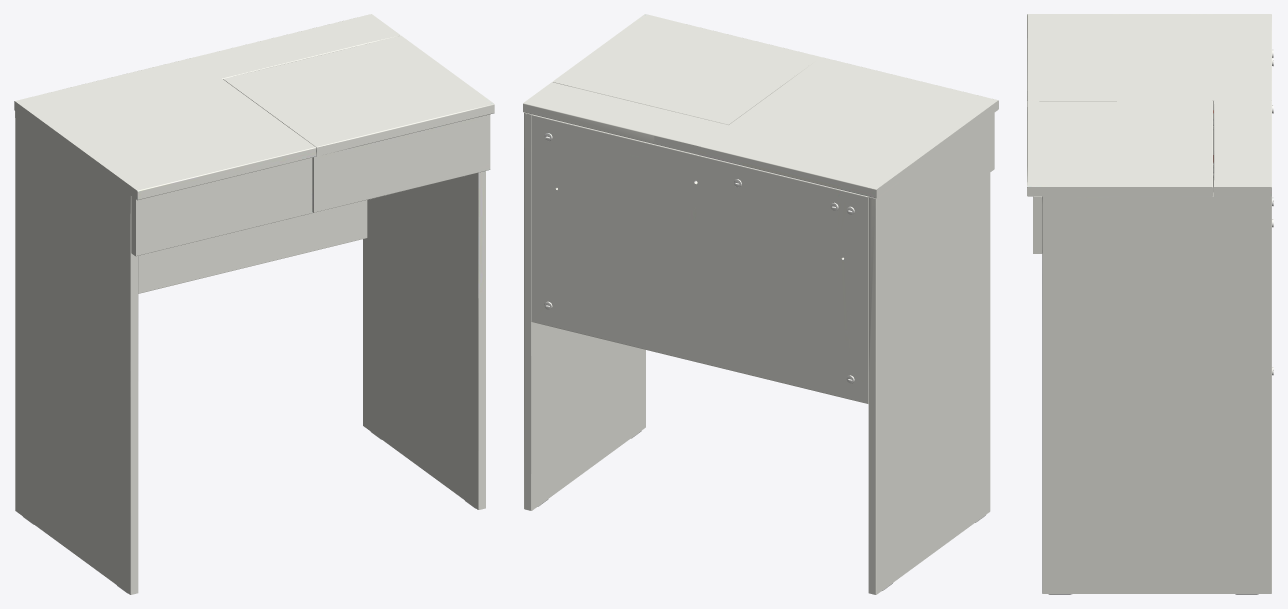
Rendered from brimnes_toaletka_70290459.glb.
3 renders of one model, left to right at view 1: azimuth 30°, elevation 25°; view 2: azimuth 150°, elevation 25°; view 3: azimuth 270°, elevation 25°, orthographic.
Parts seen in each view (by area): view 1: brimnes_toaletka_70290459; view 2: brimnes_toaletka_70290459; view 3: brimnes_toaletka_70290459.
Part boxes in pixels (x1,y1,x2,y2): brimnes_toaletka_70290459: [14, 14, 494, 594]; brimnes_toaletka_70290459: [523, 14, 998, 594]; brimnes_toaletka_70290459: [1027, 14, 1273, 594].
Size of the model in its own units: 0.702 by 0.773 by 0.4231.
Materials: 2 (2 with a texture image).
